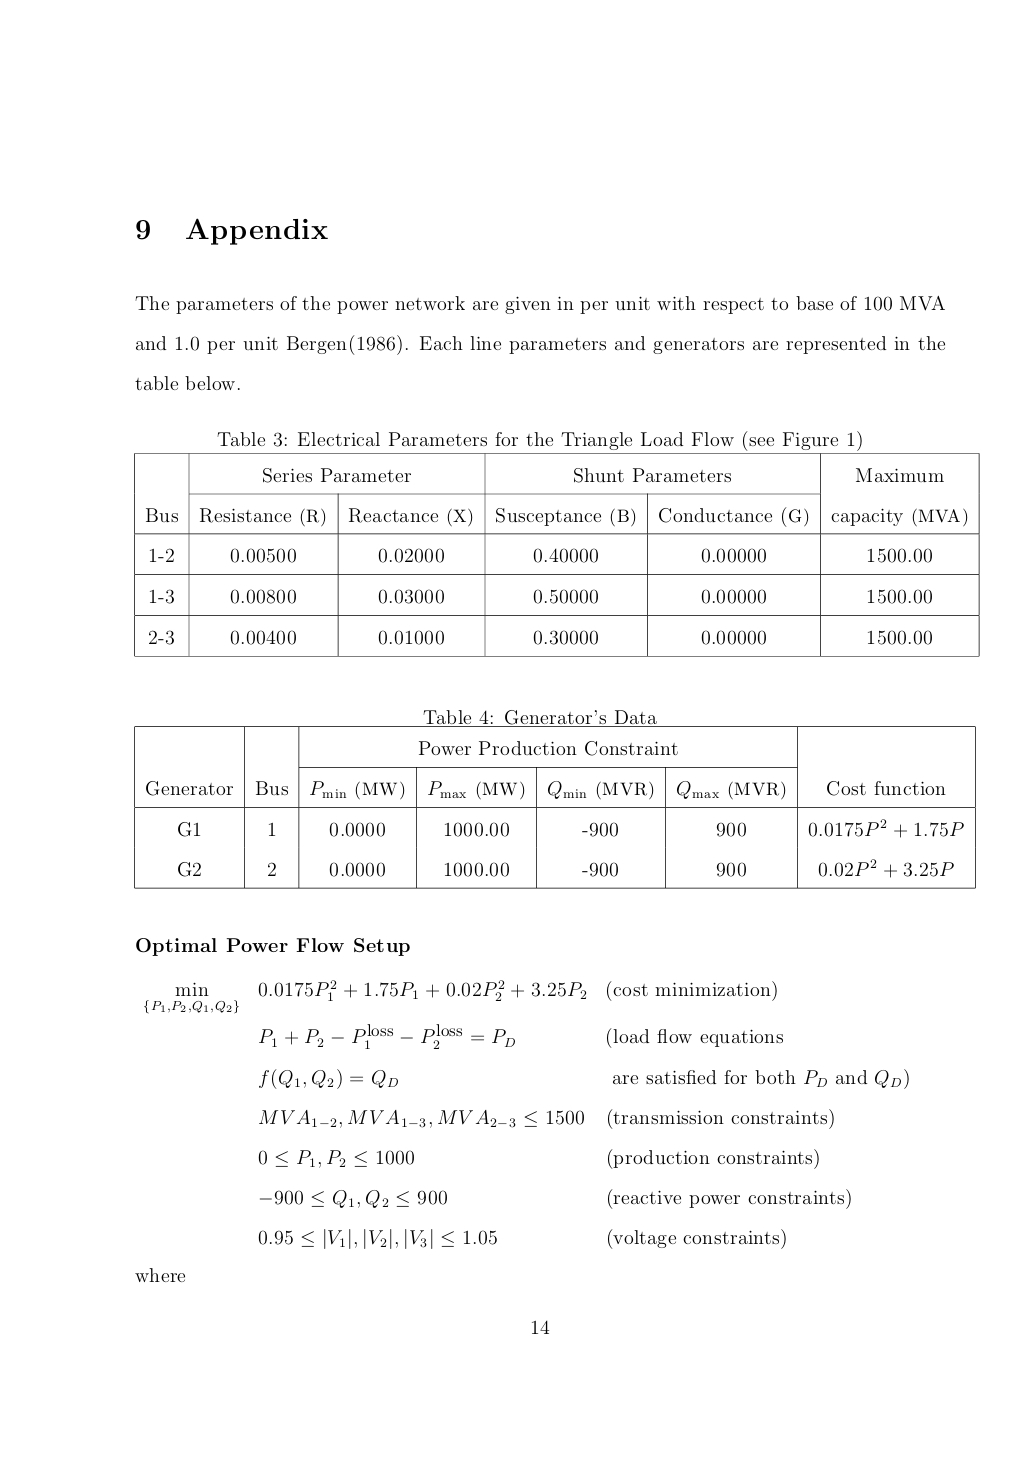Table: (134, 452, 979, 657), (134, 726, 975, 888)
formula: (144, 980, 586, 1013), (259, 1022, 514, 1049), (259, 1108, 582, 1128), (258, 1228, 497, 1249), (259, 1188, 446, 1208), (258, 1148, 413, 1168), (259, 1067, 397, 1089)
